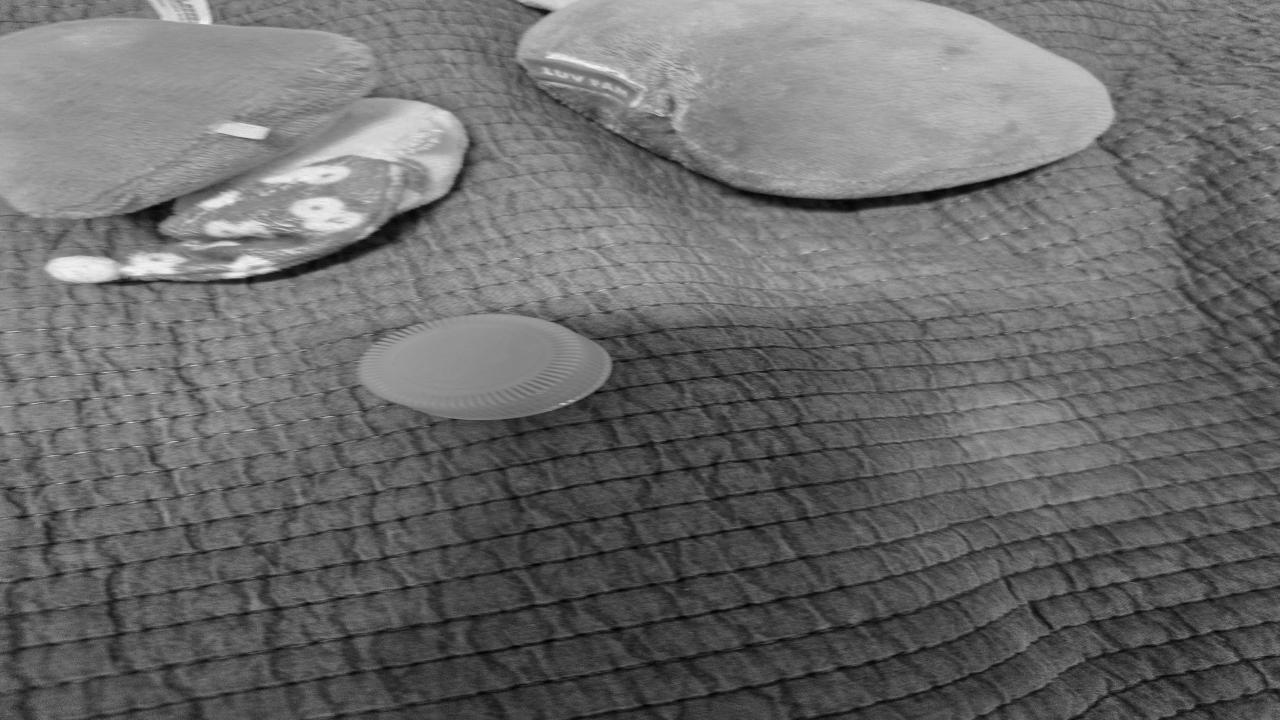bottle_cap: (356, 315, 614, 420)
